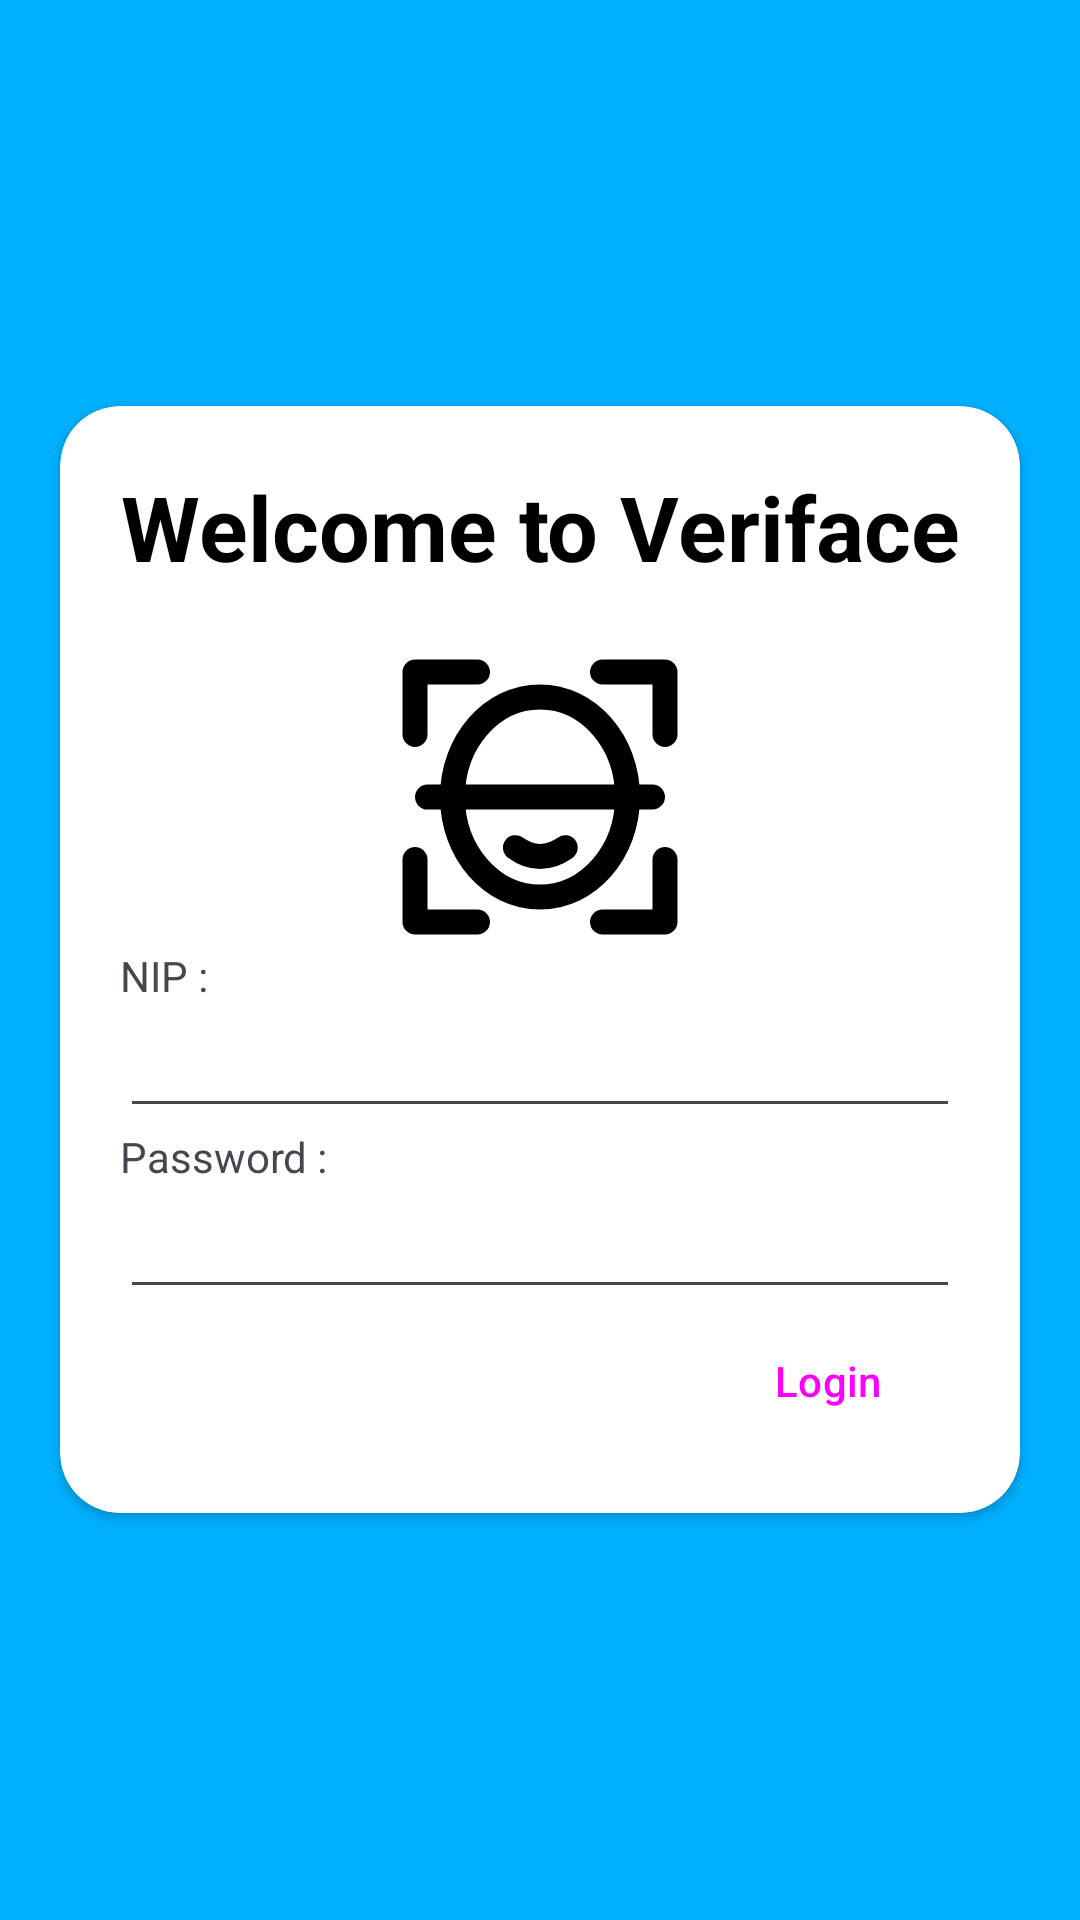

Named icons in this screenshot (1080*1920) and their centers, (x=x, y=y):
face recognition: (x=540, y=797)
